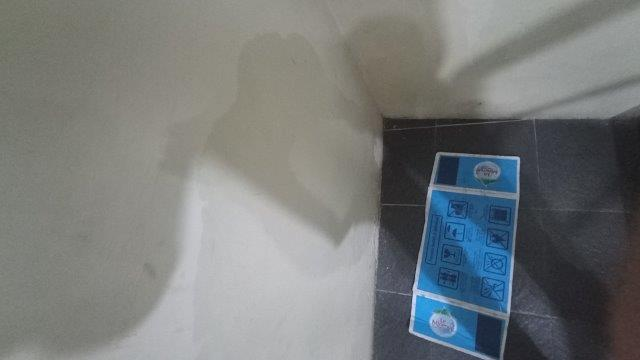kardus: (410, 153, 518, 359)
